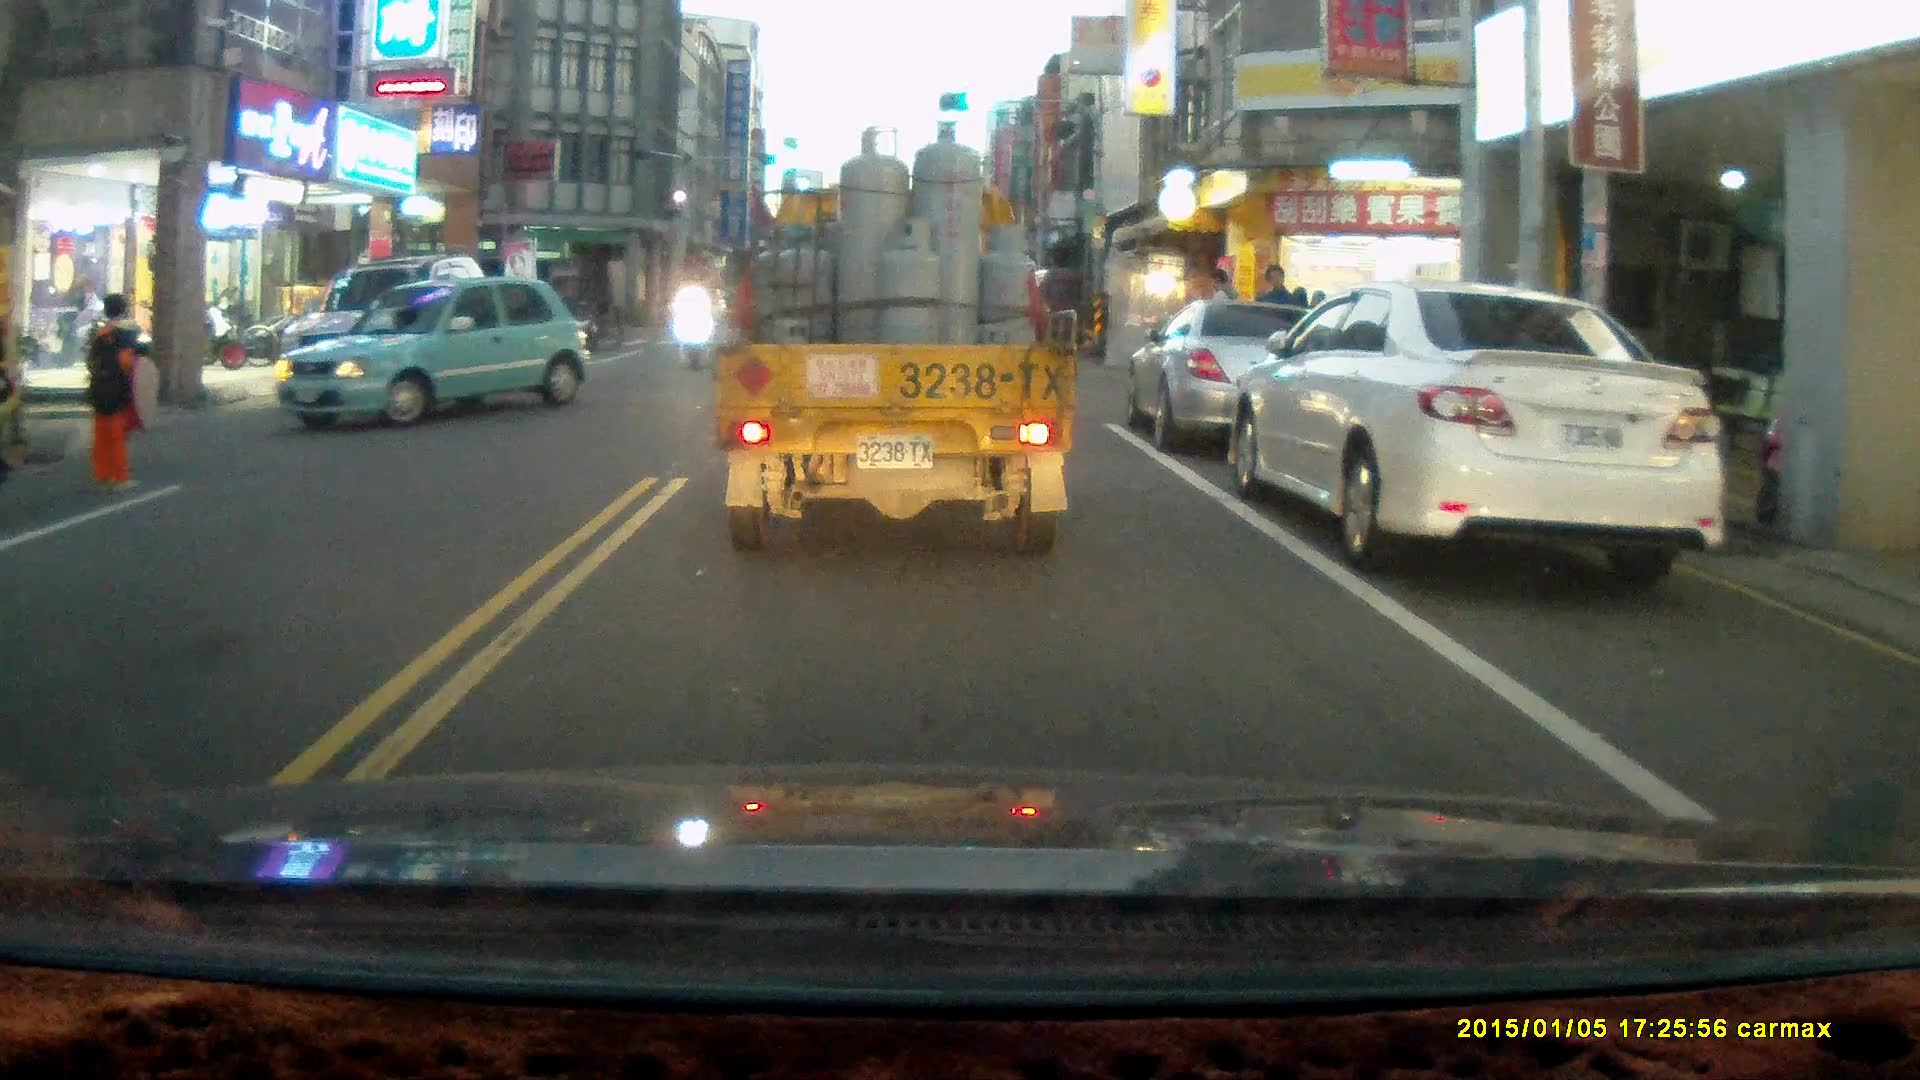pedestrian: (75, 291, 162, 494)
rider: (676, 277, 707, 370)
vehicle: (714, 123, 1076, 558), (1231, 281, 1730, 586), (281, 278, 585, 432), (1128, 297, 1418, 456)
